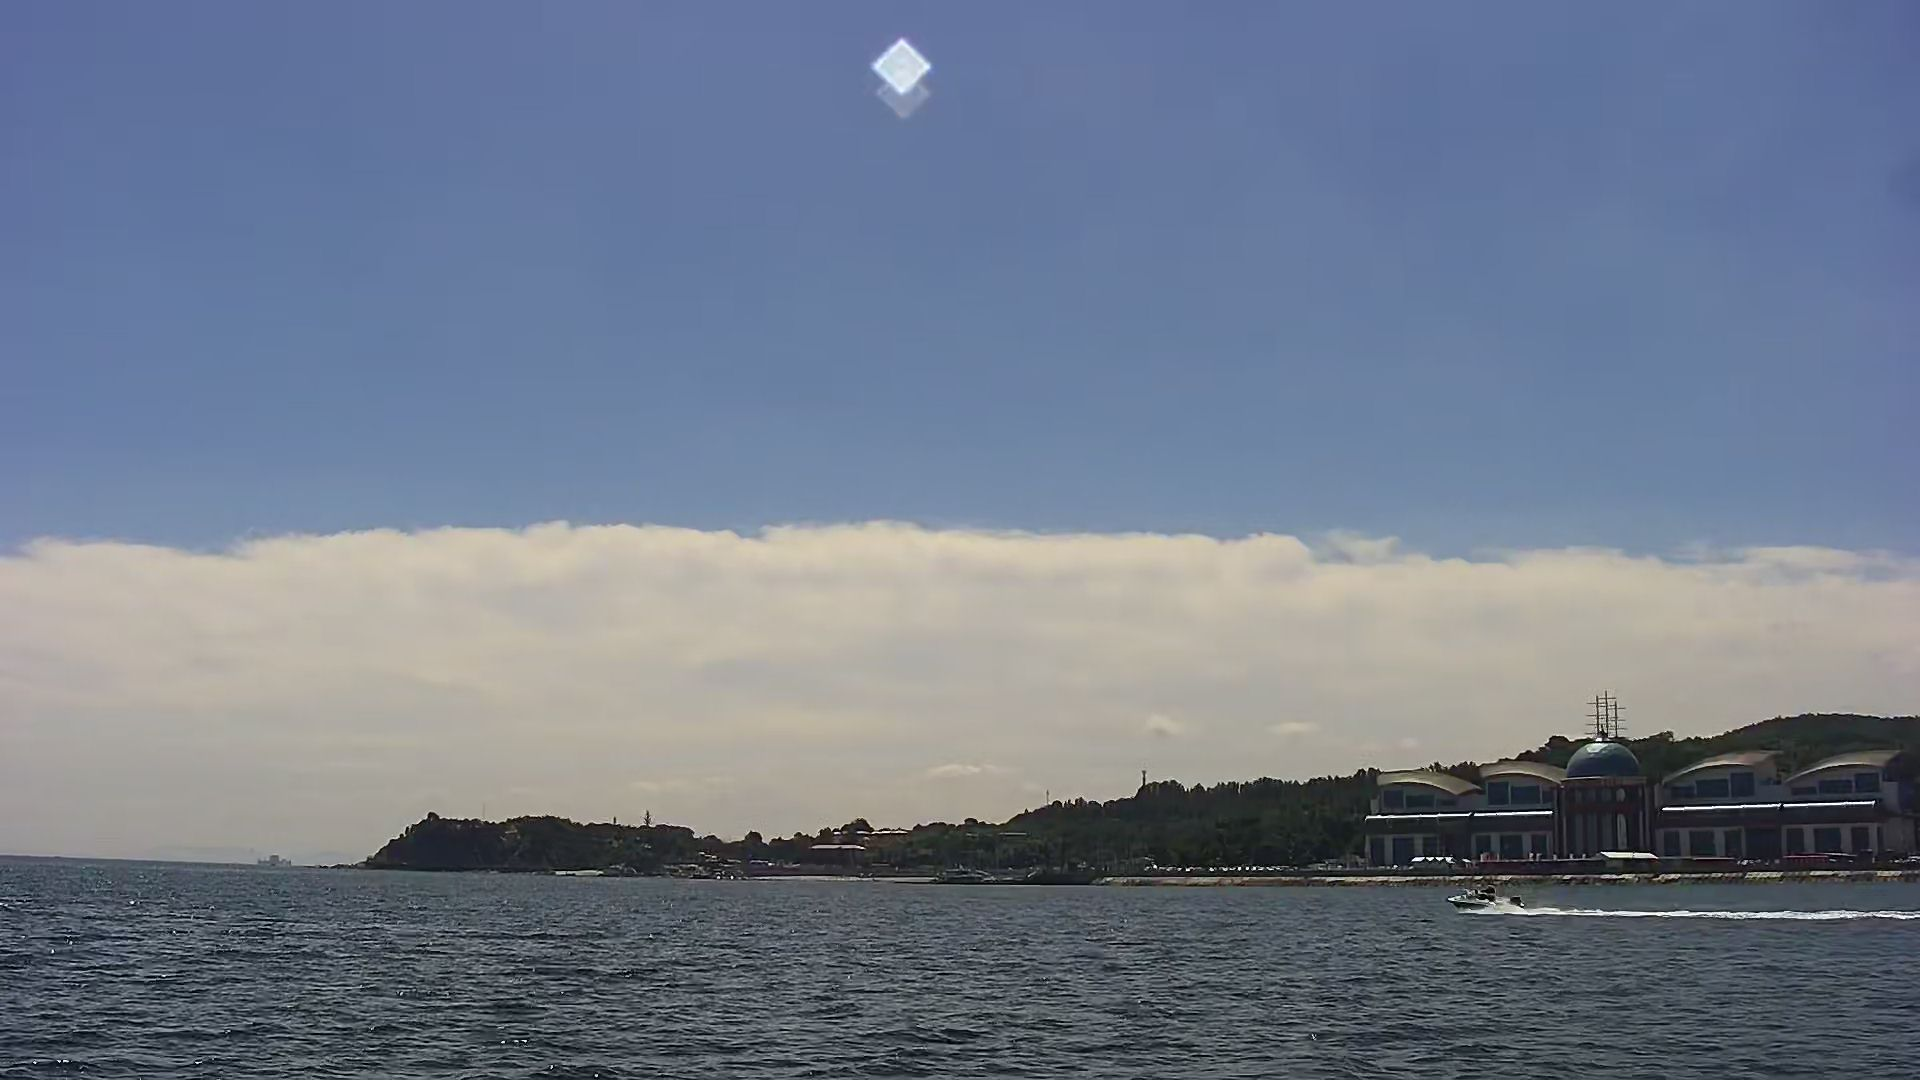boat: (1441, 886, 1530, 916)
